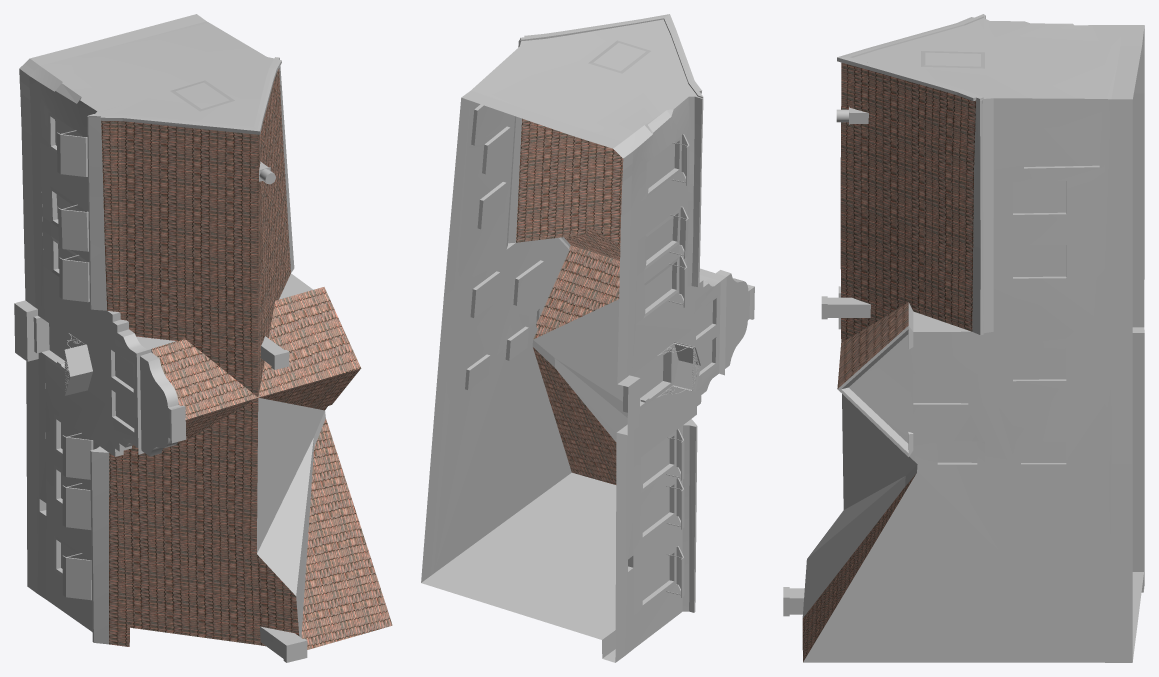
File: Uus 4.obj
3 views of the same model, side by side, from view 1: azimuth 30°, elevation 25°; view 2: azimuth 150°, elevation 25°; view 3: azimuth 270°, elevation 25° (orthographic). The views are drawn at different scales.
Visible parts, largest first — view 1: Box001; view 2: Box001; view 3: Box001.
Part boxes in pixels (bbox=[...]): Box001: bbox=[14, 14, 392, 662]; Box001: bbox=[421, 14, 754, 662]; Box001: bbox=[783, 14, 1144, 662].
Bounding box in the file's own units: 9.6 × 21.85 × 12.36.
